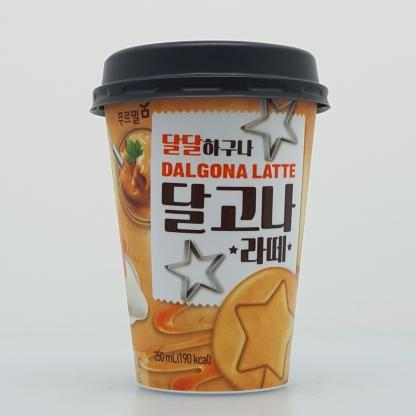---------250ML: (89, 40, 331, 395)
